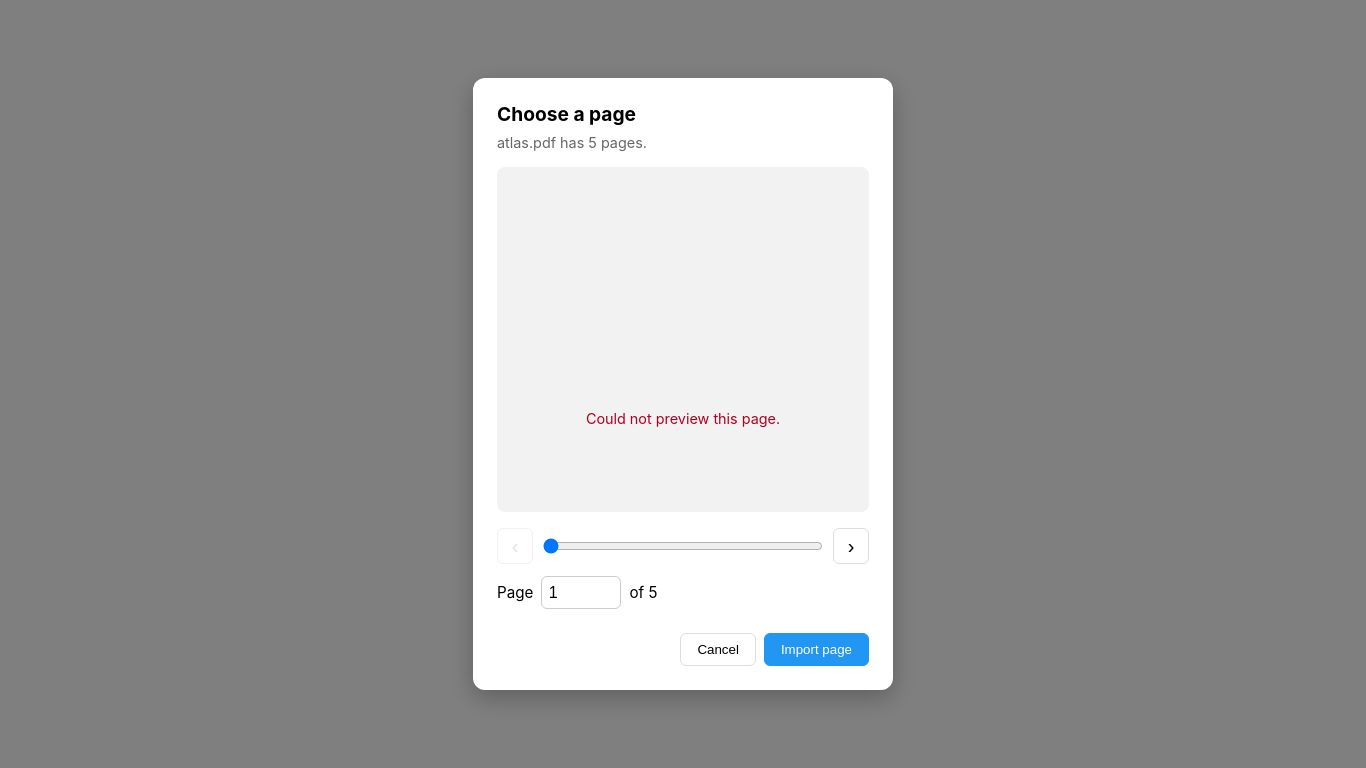
Test: PdfPagePicker › does not report an error when a superseded render is cancelled
This screenshot has width=1366, height=768.
# Move to another page while the first render is still settling.
Click the button named "next page" at [851, 546], box x1=833 y1=528 x2=869 y2=564
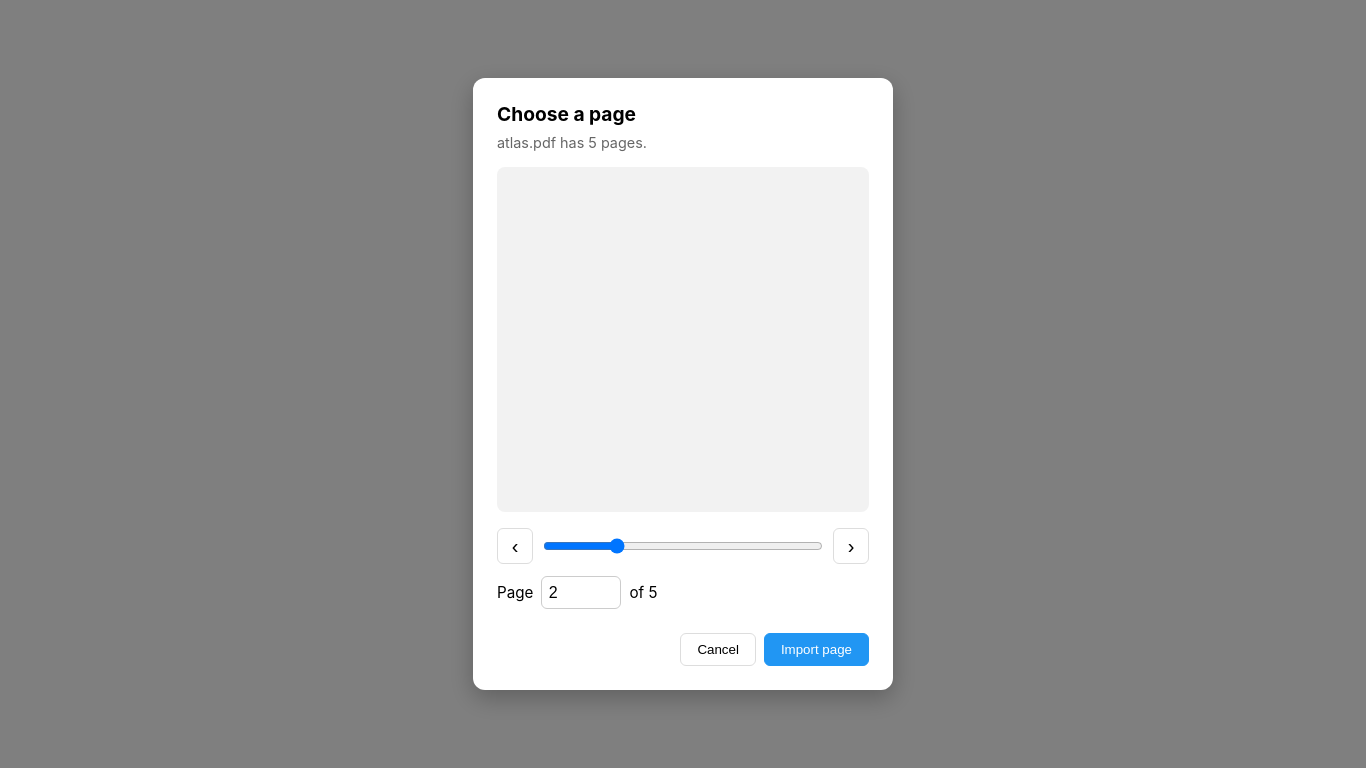
Check: the text "Could not preview this page" is gone
